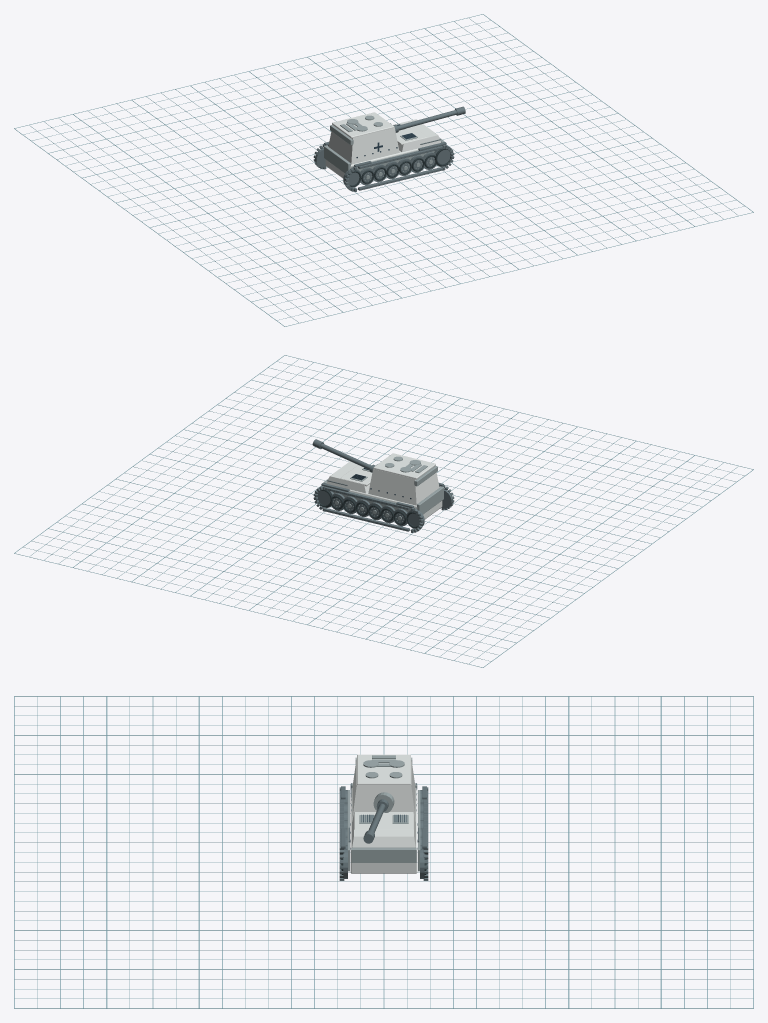
File: ferdinand_preview.glb
3 renders of one model, top to bottom at view 1: azimuth 30°, elevation 25°; view 2: azimuth 150°, elevation 25°; view 3: azimuth 270°, elevation 25°, orthographic. The views are drawn at different scales.
Visible parts, largest first — view 1: FIXED_CASEMATE, CASEMATE_ROOF, FRONT_ENGINE_HOOD; view 2: FIXED_CASEMATE, CASEMATE_ROOF, FRONT_ENGINE_HOOD; view 3: FIXED_CASEMATE, CASEMATE_ROOF, FRONT_ENGINE_HOOD, HULL_LOWER, FRONT_GLACIS, GRID_X_00, GRID_X_04, GRID_X_24, GRID_X_28, GRID_X_32, GRID_X_01, GRID_X_02 (+33 smaller).
Boxes of the visible parts, box(x1,y1,x2,y2) form: FIXED_CASEMATE: box(328, 127, 399, 164); CASEMATE_ROOF: box(332, 112, 394, 138); FRONT_ENGINE_HOOD: box(398, 119, 441, 152); FIXED_CASEMATE: box(368, 468, 439, 505); CASEMATE_ROOF: box(373, 453, 435, 479); FRONT_ENGINE_HOOD: box(326, 461, 369, 493); FIXED_CASEMATE: box(352, 757, 415, 819); CASEMATE_ROOF: box(357, 754, 410, 784); FRONT_ENGINE_HOOD: box(352, 814, 415, 847); HULL_LOWER: box(350, 788, 417, 873); FRONT_GLACIS: box(351, 847, 416, 862); GRID_X_00: box(14, 696, 753, 696); GRID_X_04: box(14, 735, 753, 735); GRID_X_24: box(14, 930, 753, 930); GRID_X_28: box(14, 969, 753, 969); GRID_X_32: box(14, 1008, 753, 1008); GRID_X_01: box(15, 706, 752, 706); GRID_X_02: box(15, 715, 752, 715).
Bounding box in the file's own units: 32.04 × 3.41 × 32.04.
